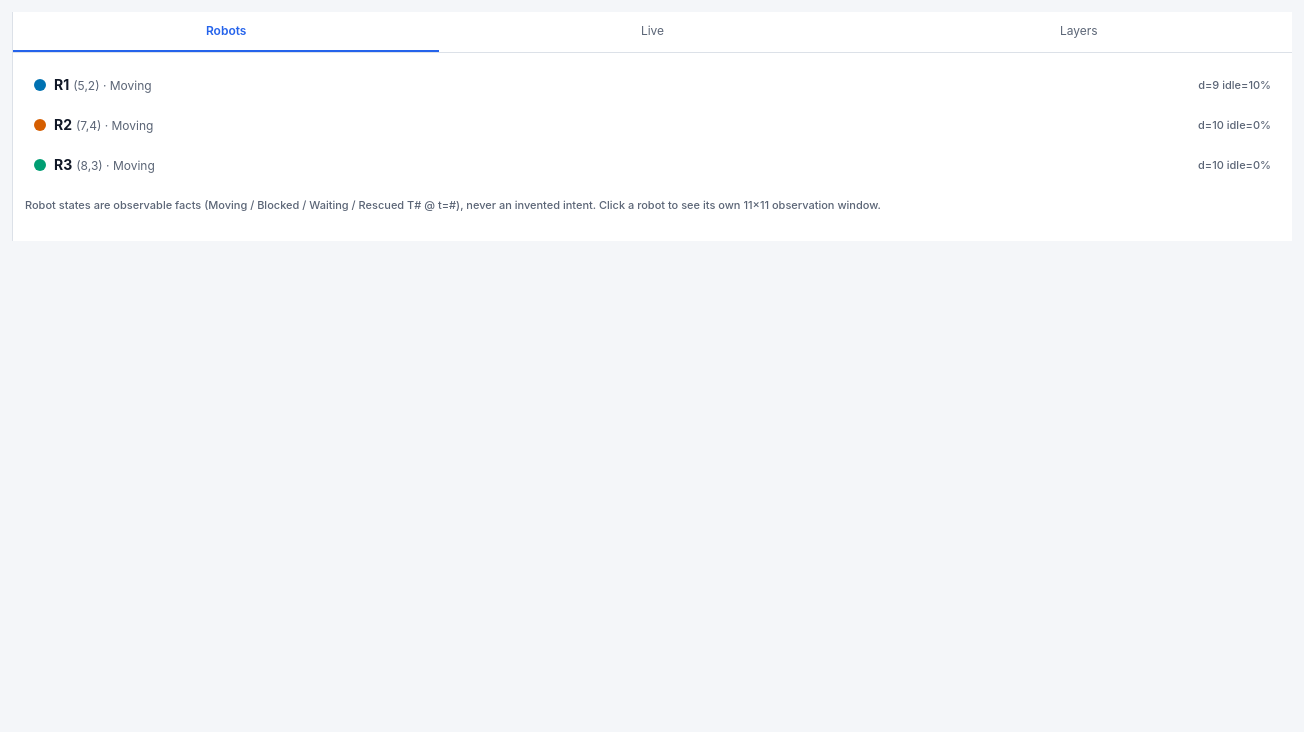
Test: RightRail › Live tab shows the coverage series and the frame's real reward components
The width and height of the screenshot is (1304, 732).
Click the tab "Live".
click(652, 32)  # box [439,12,866,52]
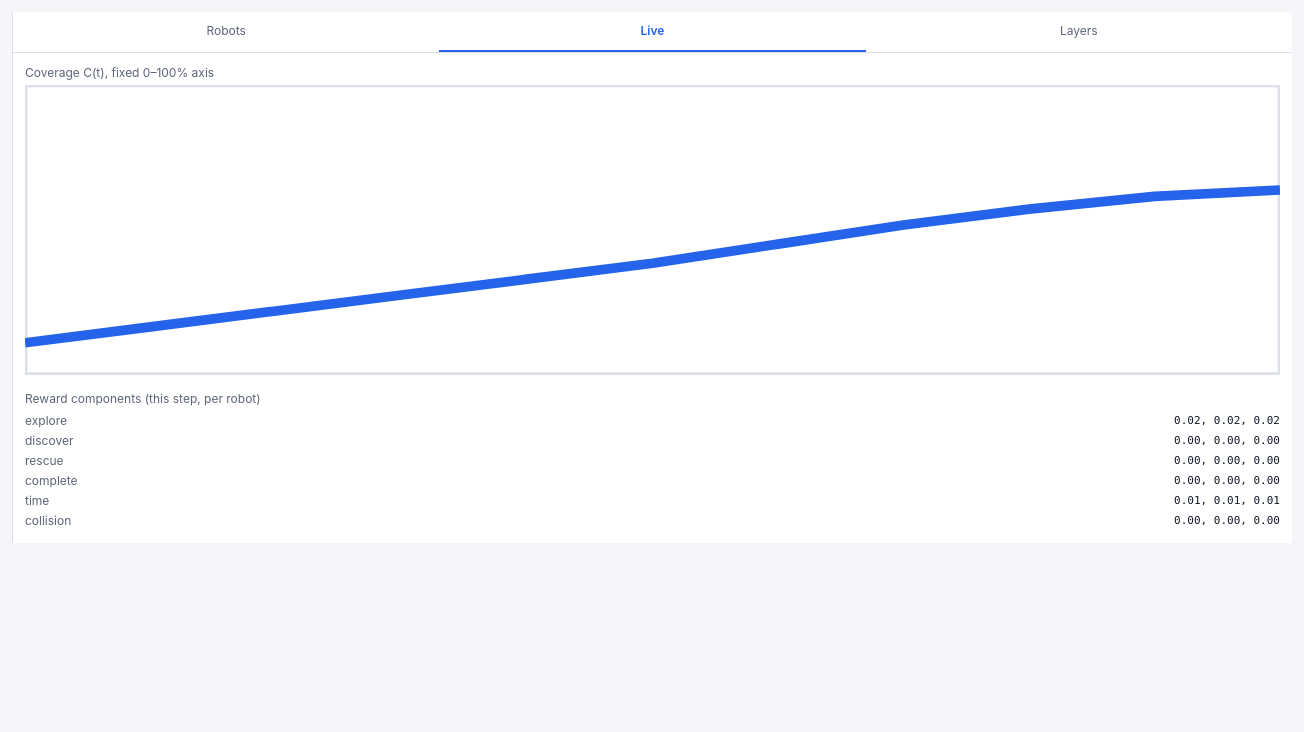
Expected: the picture named "Coverage over time" is shown, [25,85,1280,375]
Expected: the text "explore" is shown, [25,411,441,431]
Expected: the text "discover" is shown, [25,431,441,451]
